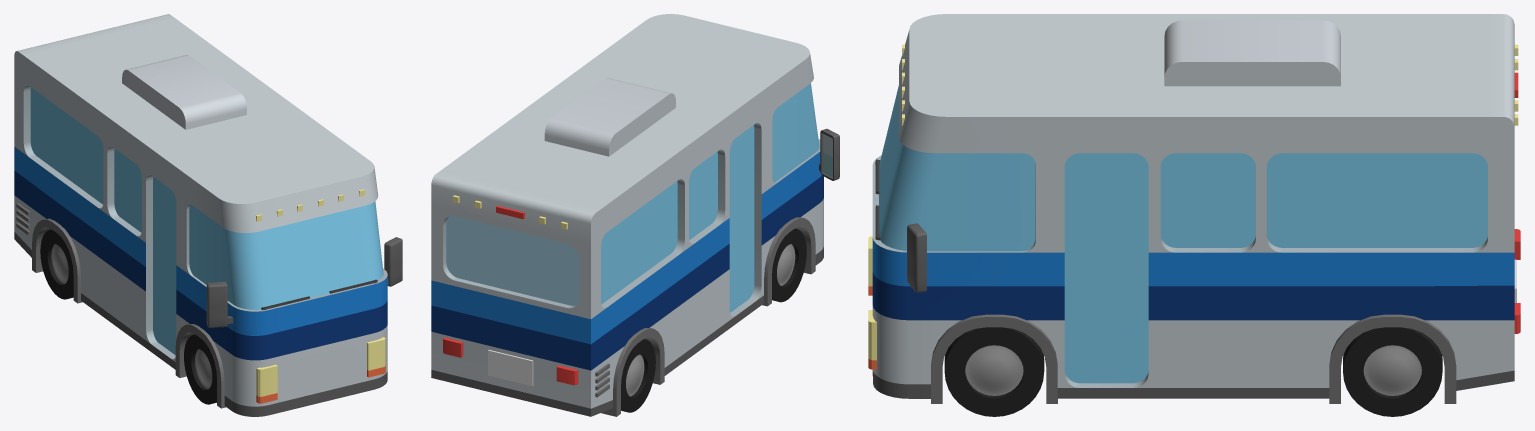
The model's file is oncoming_bus.glb.
The picture shows the model from 3 angles, left to right: view 1: azimuth 30°, elevation 25°; view 2: azimuth 150°, elevation 25°; view 3: azimuth 270°, elevation 25°; orthographic projection. The views are drawn at different scales.
Parts seen in each view (by area): view 1: Cube.610; view 2: Cube.610; view 3: Cube.610.
Part boxes in pixels (x1,y1,x2,y2): Cube.610: (14, 14, 402, 416); Cube.610: (431, 14, 839, 416); Cube.610: (868, 14, 1520, 416).
Size of the model in its own units: 1.62 by 1.87 by 3.4.
1 material, 1 textured.
